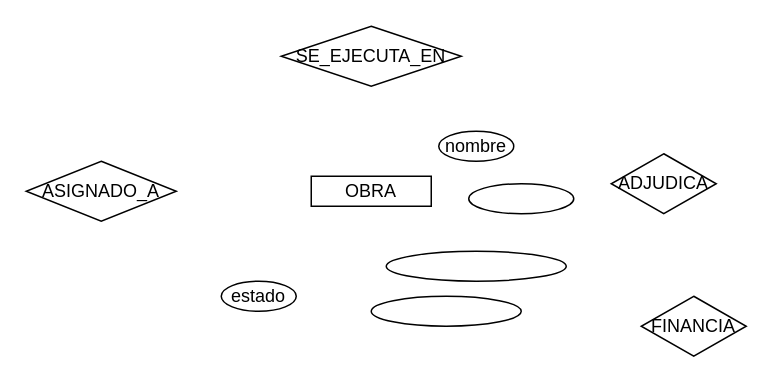
The diagram is 773 pixels wide and 383 high, and some of its shapes have lost their labels. Each missing label, with the centre of its shape:
"fecha_inicio" goes at point (520, 198).
"fecha_término_prog" goes at point (475, 265).
"monto_contratado" goes at point (445, 310).
